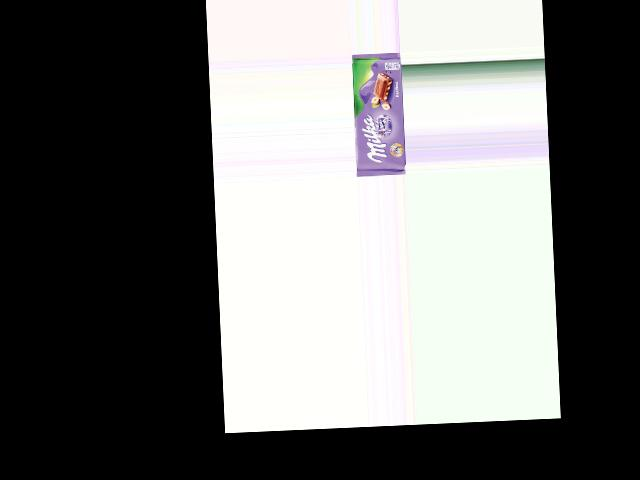chocolate: (351, 52, 406, 176)
